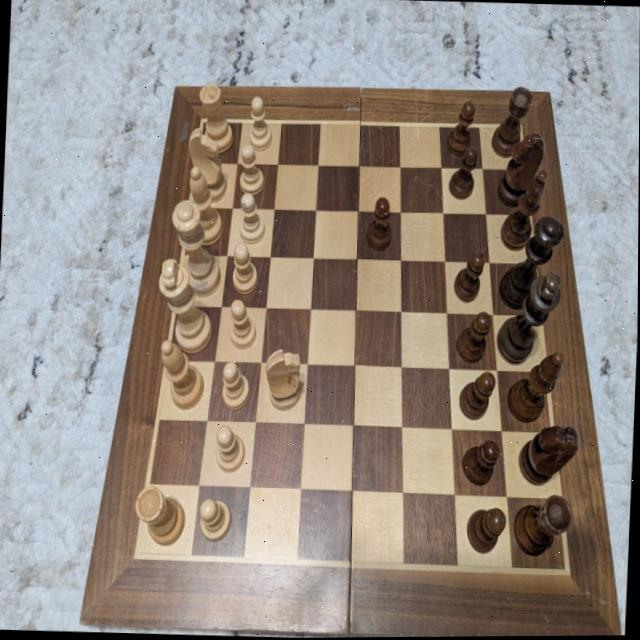black_bishop: (506, 351, 567, 423), (501, 167, 549, 253)
black_king: (497, 270, 564, 368)
black_knight: (498, 130, 546, 212), (518, 423, 581, 485)
black_pawn: (455, 311, 492, 367), (466, 506, 507, 554), (461, 438, 501, 486), (459, 370, 497, 420), (453, 250, 486, 304), (445, 99, 475, 158), (366, 196, 394, 253), (448, 146, 478, 199)
black_queen: (499, 211, 563, 311)
black_rook: (511, 493, 575, 558), (491, 85, 533, 157)
white_bishop: (184, 167, 226, 245), (158, 341, 206, 409)
white_king: (156, 259, 215, 354)
white_knight: (187, 127, 228, 200), (264, 348, 304, 409)
white_pawn: (227, 298, 258, 350), (198, 496, 233, 542), (220, 359, 251, 410), (248, 94, 274, 152), (238, 191, 266, 244), (230, 243, 259, 294), (238, 144, 265, 197), (215, 424, 246, 470)
white_queen: (169, 197, 224, 296)
white_rook: (134, 485, 188, 548), (198, 84, 235, 154)
